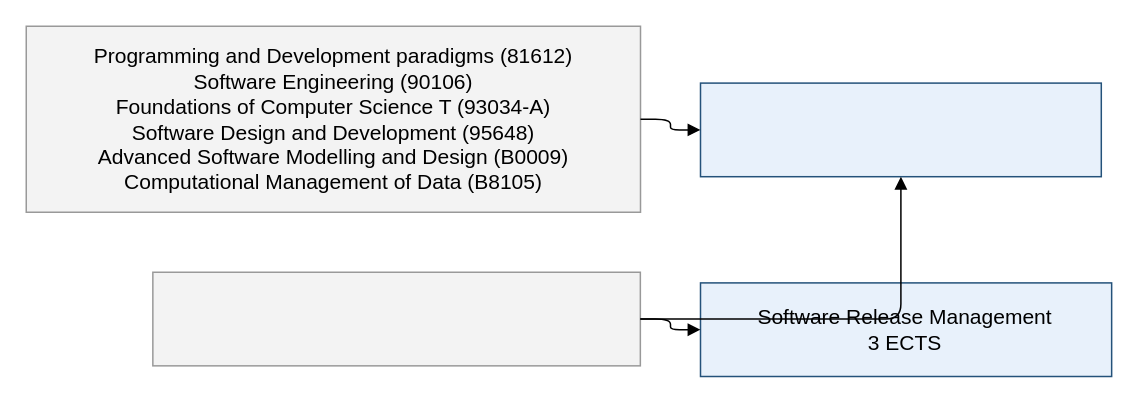
Image size: 1139x404. Some labels were removed from this diagram. Each missing label, with the centre of its shape:
"Software Engineering (95627) Software Process Engineering (B0011)" goes at point (395, 318).
"Software Quality Foundations 6 ECTS" goes at point (900, 129).
